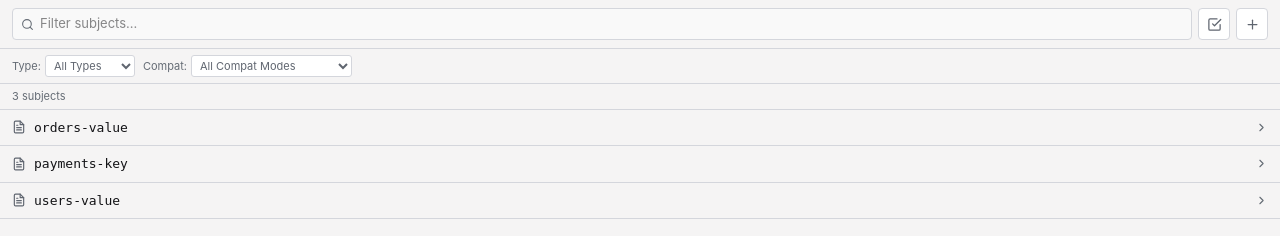
Scenario: [@schema-list] search/filter › shows filtered count badge when a query is active
Type "orders" into the field named "filter schema subjects" at coordinates (612, 24), box [40,14,1183,34]
Wait 300 ms
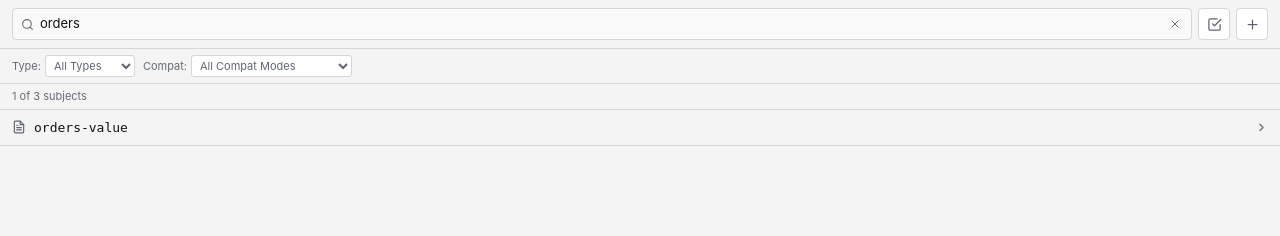
Check: the text "1 of 3 subjects" is shown, box [0,84,1279,110]
